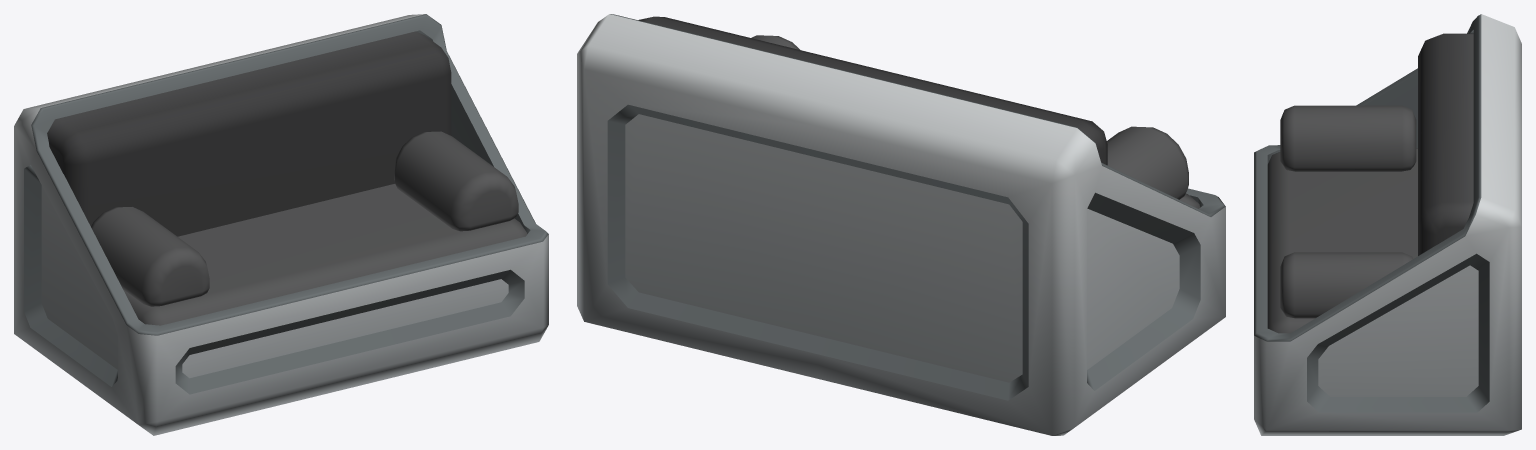
The model's file is Mini_sofa_001.glb.
3 views of the same model, side by side, from view 1: azimuth 30°, elevation 25°; view 2: azimuth 150°, elevation 25°; view 3: azimuth 270°, elevation 25° (orthographic). The views are drawn at different scales.
Visible parts, largest first — view 1: Mini_sofa_001; view 2: Mini_sofa_001; view 3: Mini_sofa_001.
Part boxes in pixels (x1,y1,x2,y2): Mini_sofa_001: [14, 14, 548, 435]; Mini_sofa_001: [577, 14, 1225, 435]; Mini_sofa_001: [1254, 14, 1521, 435].
Size of the model in its own units: 1.48 by 0.8432 by 0.8572.
1 material, 1 textured.
